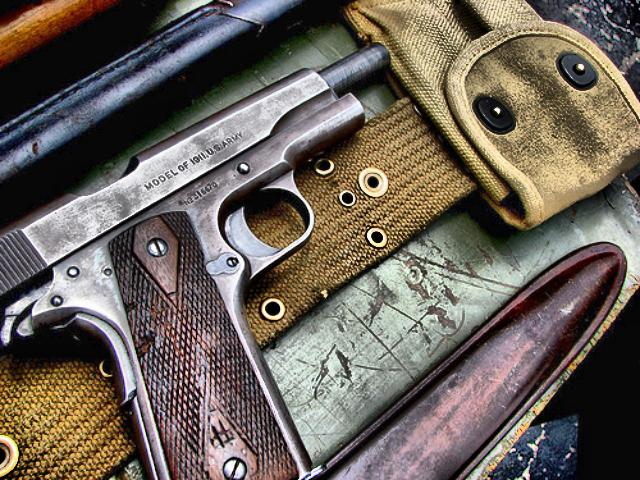pistol: (0, 39, 392, 478)
